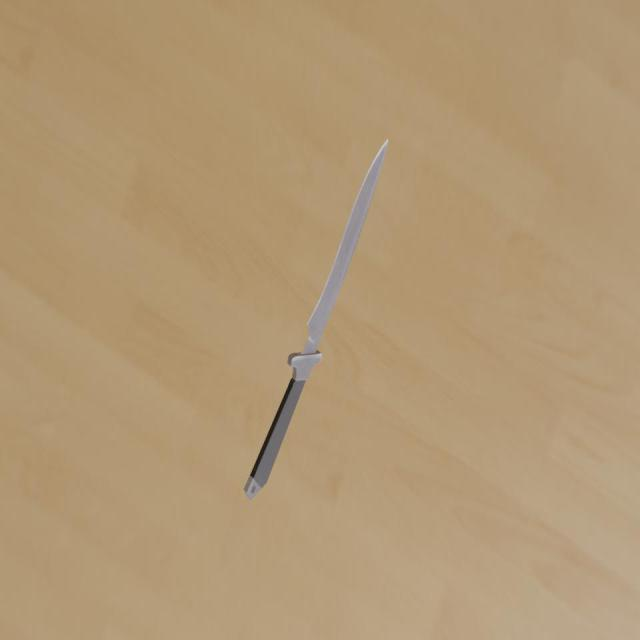knife: (245, 378, 306, 499)
